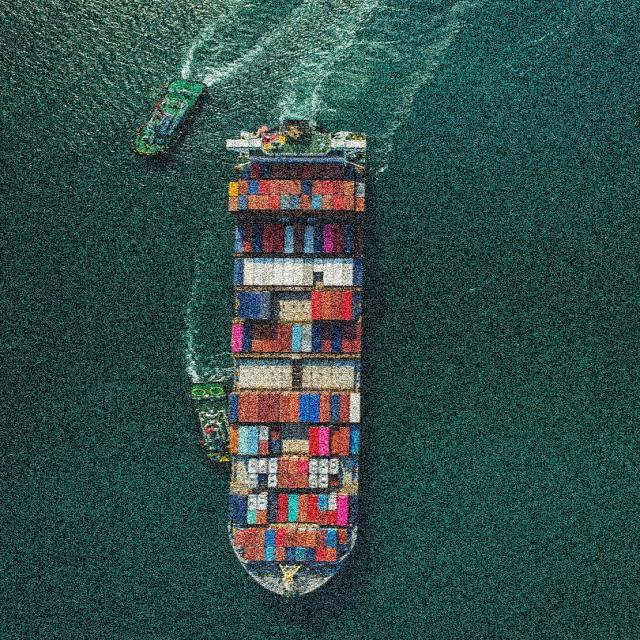ship2: (225, 120, 372, 602), (133, 76, 210, 162)
